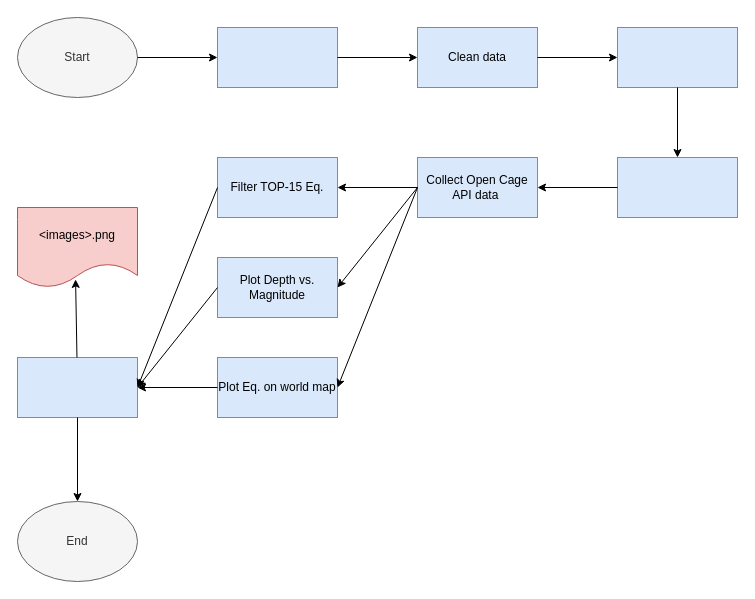
Some shapes in this 755 by 599 pixel diagram are drawn without their labels. Here are the shapes that lost their labels. From the top down, the centre of each, then its label:
point 277,57: Acquire data from csv
point 677,57: Bininng data
point 677,187: Filtering data (Very High - Moderate)
point 77,387: Export images
